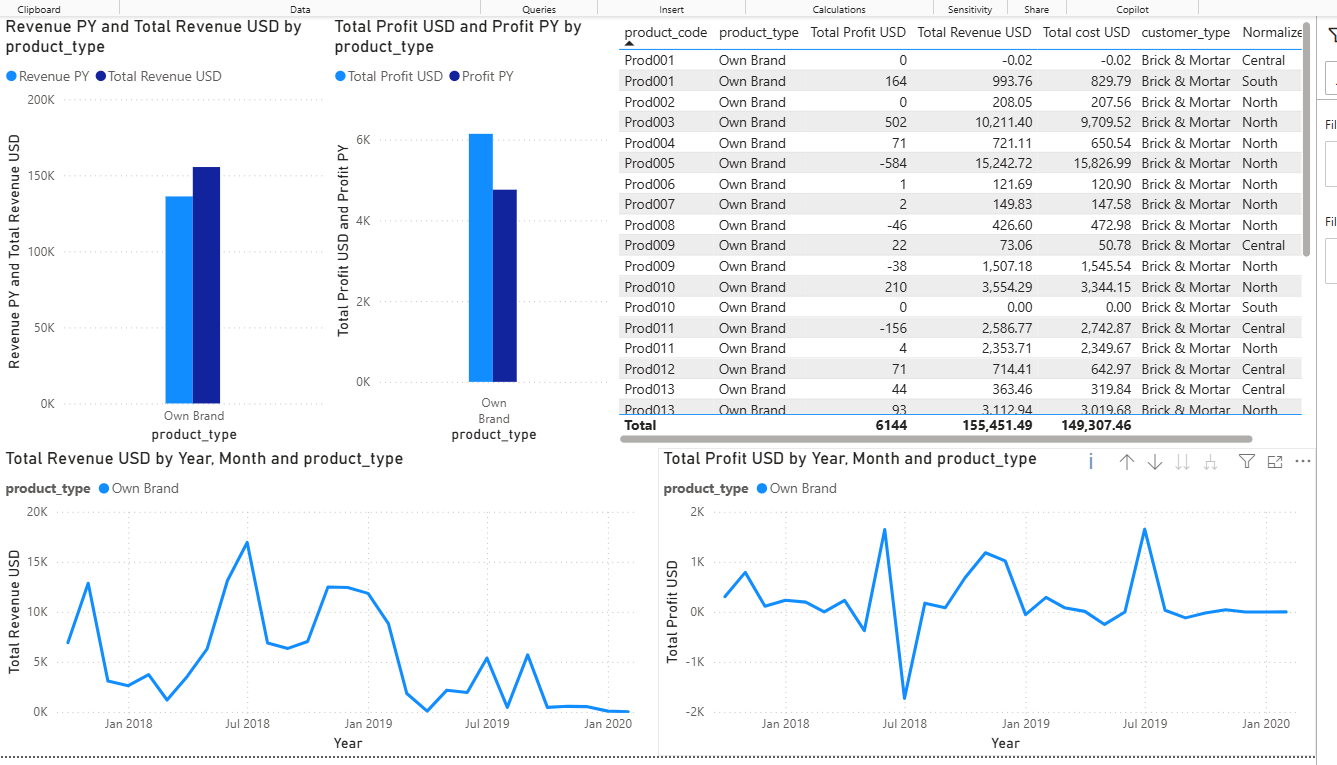

This screenshot's page, from the dashboard's own definition file:
{"tool":"powerbi","page":{"name":"Products","canvas":[1280,720],"ordinal":2},"visuals":[{"type":"tableEx","fields":{"Values":["products.product_code","products.product_type","transactions.Total Profit USD","transactions.Total Revenue USD","transactions.Total cost USD","customers.customer_type","markets.Normalized_Zone"]},"box":[596.2,0,683.8,421.2],"z":0},{"type":"lineChart","fields":{"Series":["products.product_type"],"Category":["date.date.Variation.Date Hierarchy.Year","date.date.Variation.Date Hierarchy.Month"],"Y":["transactions.Total Revenue USD"]},"box":[0,420,640,300],"z":1000},{"type":"lineChart","fields":{"Y":["transactions.Total Profit USD"],"Category":["date.date.Variation.Date Hierarchy.Year","date.date.Variation.Date Hierarchy.Month"],"Series":["products.product_type"]},"box":[640,420,640,300],"z":2000},{"type":"clusteredColumnChart","fields":{"Y":["transactions.Revenue PY","transactions.Total Revenue USD"],"Category":["products.product_type"]},"box":[0,0,320,420.2],"z":3000},{"type":"clusteredColumnChart","fields":{"Y":["transactions.Total Profit USD","transactions.Profit PY"],"Category":["products.product_type"]},"box":[320,0,276.2,420.2],"z":4000}]}

Visuals, with their boxes on the page's 1280x720 design canvas (x1, y1, x2, y2). These are canvas units, not pixel positions in the 1337x765 screenshot, which may show the page scaled, cropped or inside an application window:
tableEx - products.product_code x products.product_type: {"left": 596, "top": 0, "right": 1280, "bottom": 421}
lineChart - products.product_type x date.date.Variation.Date Hierarchy.Year: {"left": 0, "top": 420, "right": 640, "bottom": 720}
lineChart - transactions.Total Profit USD x date.date.Variation.Date Hierarchy.Year: {"left": 640, "top": 420, "right": 1280, "bottom": 720}
clusteredColumnChart - transactions.Revenue PY x transactions.Total Revenue USD: {"left": 0, "top": 0, "right": 320, "bottom": 420}
clusteredColumnChart - transactions.Total Profit USD x transactions.Profit PY: {"left": 320, "top": 0, "right": 596, "bottom": 420}
